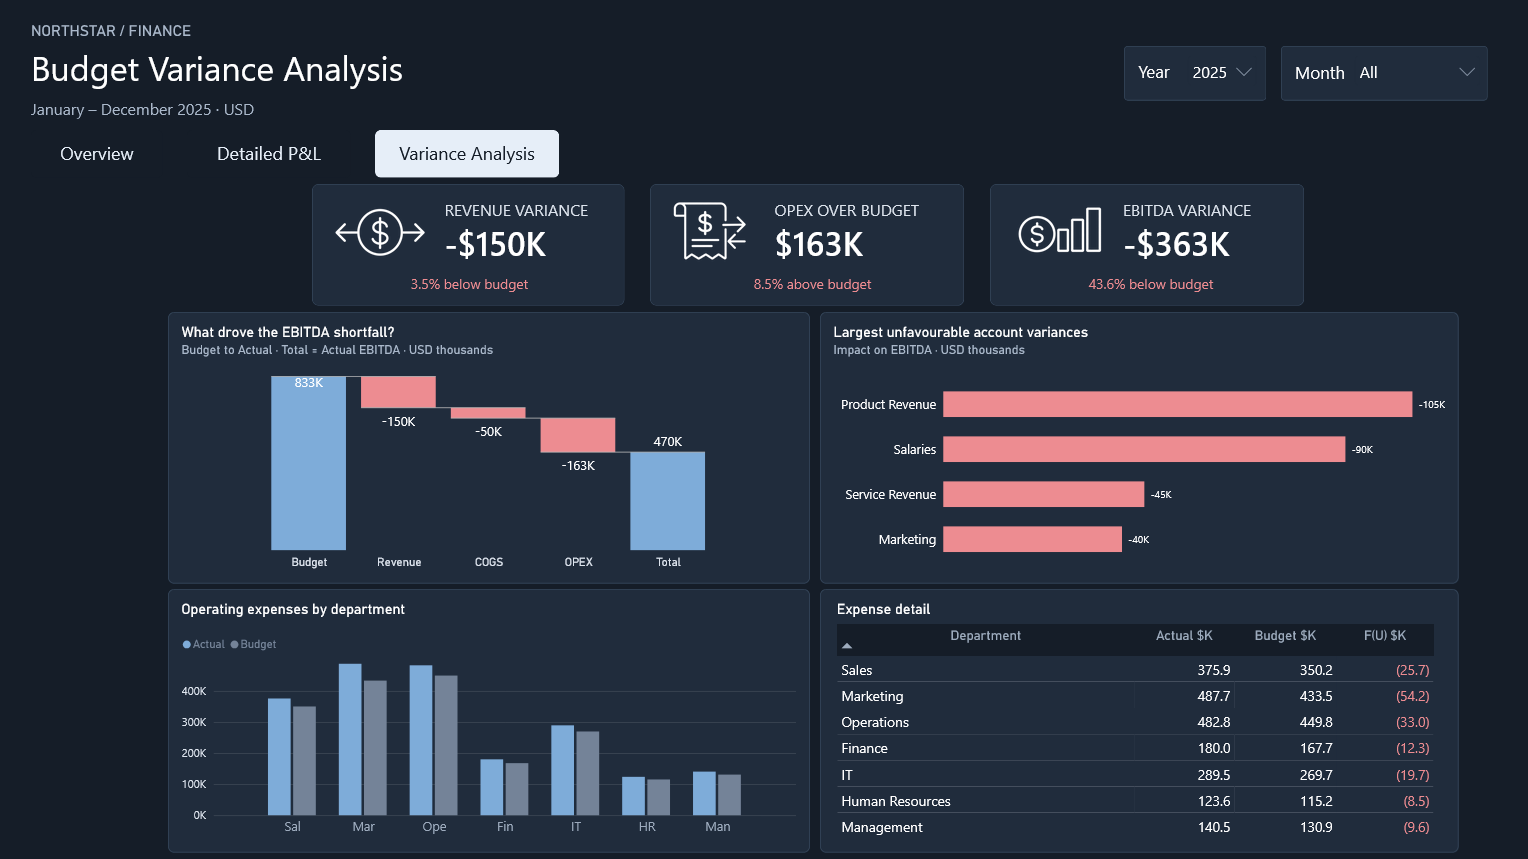

This screenshot's page, from the dashboard's own definition file:
{"tool":"powerbi","page":{"name":"Variance Analysis","canvas":[1920,1080],"ordinal":2},"visuals":[{"type":"textbox","box":[38.6,27.1,215.7,27.1],"z":0,"group":"g1"},{"type":"group","id":"g1","title":"Group 3","box":[38.6,27.1,631.4,125.7],"z":0},{"type":"shape","box":[1610.5,57.9,259.9,68.7],"z":0,"group":"g3"},{"type":"group","id":"g2","title":"Group 1","box":[1412.6,58.2,179.1,68.7],"z":0,"group":"g4"},{"type":"shape","box":[1412.6,58.2,179.1,68.7],"z":0,"group":"g2"},{"type":"actionButton","box":[38.6,162.9,165.6,60],"z":0,"group":"g6"},{"type":"cardVisual","fields":{"Data":["Measures_.Revenue Variance"]},"box":[392.9,231.4,393.1,153.1],"z":0,"group":"g5"},{"type":"textbox","box":[38.6,54.2,631.4,58.6],"z":1000,"group":"g1"},{"type":"group","id":"g3","title":"Group 2","box":[1610.5,57.9,259.9,68.7],"z":1000,"group":"g4"},{"type":"slicer","fields":{"Values":["Dim_Date.MonthName"]},"box":[1698.4,65.6,167.1,47.1],"z":1000,"group":"g3"},{"type":"slicer","fields":{"Values":["Dim_Date.Year"]},"box":[1488.6,65.7,96.5,46.5],"z":1000,"group":"g2"},{"type":"actionButton","box":[234.3,162.9,206,60],"z":1000,"group":"g6"},{"type":"group","id":"g4","title":"Group 5","box":[1412.6,57.9,457.9,68.7],"z":2000},{"type":"textbox","box":[1419,76.1,63,28.7],"z":2000,"group":"g2"},{"type":"textbox","box":[1628.6,76.2,70,28.9],"z":2000,"group":"g3"},{"type":"cardVisual","fields":{"Data":["Measures_.Overview Subtitle"]},"box":[38.6,117.1,600,35.7],"z":2000,"group":"g1"},{"type":"actionButton","box":[471.5,162.9,231.6,60],"z":2000,"group":"g6"},{"type":"cardVisual","fields":{"Data":["Measures_.OPEX Variance"]},"box":[817.3,231.4,395.9,153.1],"z":3000,"group":"g5"},{"type":"waterfallChart","title":"What drove the EBITDA shortfall?","fields":{"Category":["EBITDA_Bridge.Step"],"Y":["Measures_.EBITDA Bridge Value"]},"box":[211.4,392.9,807.1,341.4],"z":3000},{"type":"clusteredBarChart","title":"Largest unfavorable account variances","fields":{"Category":["Dim_Account.AccountName"],"Y":["Measures_.Unfavourable Account Impact"]},"box":[1031.4,392.9,802.9,341.4],"z":4000},{"type":"clusteredColumnChart","title":"Operating expenses by department","fields":{"Category":["Dim_Department.Department Short"],"Y":["Measures_.OPEX Actual","Measures_.OPEX Budget"]},"box":[211.4,740,807.1,331.4],"z":5000},{"type":"cardVisual","fields":{"Data":["Measures_.EBITDA Variance"]},"box":[1245.8,231.4,395.9,153.1],"z":6000,"group":"g5"},{"type":"tableEx","title":"Expense detail","fields":{"Values":["Dim_Department.Department","Measures_.OPEX Actual $K","Measures_.OPEX Budget $K","Measures_.OPEX FU $K"]},"box":[1031.4,740,802.9,331.4],"z":6000},{"type":"group","id":"g5","title":"Group 6","box":[392.9,231.4,1250,152.9],"z":7000},{"type":"group","id":"g6","title":"Group 2","box":[38.6,162.9,664.3,60],"z":7001}]}

Visuals, with their boxes in screenshot pixels (x1, y1, x2, y2), scaled from the page's 1920x1080 canvas onto the 1528x859 screenshot:
textbox: [31,22,202,43]
"Group 3" group: [31,22,533,122]
shape: [1282,46,1489,101]
"Group 1" group: [1124,46,1267,101]
shape: [1124,46,1267,101]
actionButton: [31,130,163,177]
cardVisual - Measures_.Revenue Variance: [313,184,626,306]
textbox: [31,43,533,90]
"Group 2" group: [1282,46,1489,101]
slicer - Dim_Date.MonthName: [1352,52,1485,90]
slicer - Dim_Date.Year: [1185,52,1261,89]
actionButton: [186,130,350,177]
"Group 5" group: [1124,46,1489,101]
textbox: [1129,61,1179,83]
textbox: [1296,61,1352,84]
cardVisual - Measures_.Overview Subtitle: [31,93,508,122]
actionButton: [375,130,560,177]
cardVisual - Measures_.OPEX Variance: [650,184,966,306]
"What drove the EBITDA shortfall?" waterfallChart: [168,313,811,584]
"Largest unfavorable account variances" clusteredBarChart: [821,313,1460,584]
"Operating expenses by department" clusteredColumnChart: [168,589,811,852]
cardVisual - Measures_.EBITDA Variance: [991,184,1307,306]
"Expense detail" tableEx: [821,589,1460,852]
"Group 6" group: [313,184,1307,306]
"Group 2" group: [31,130,559,177]
